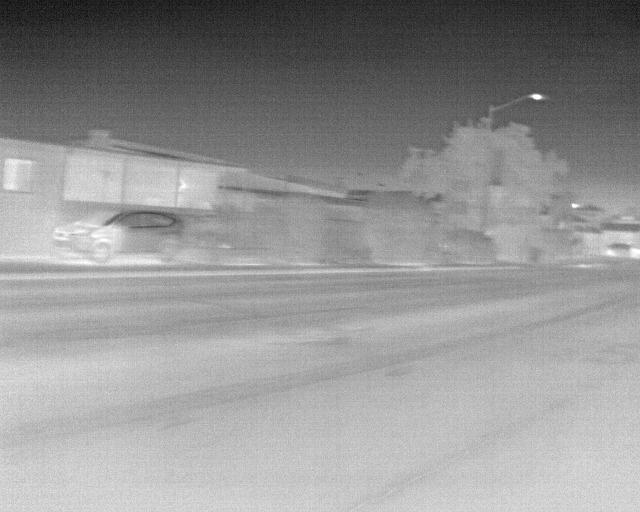car: (53, 202, 188, 266), (602, 239, 639, 260)
